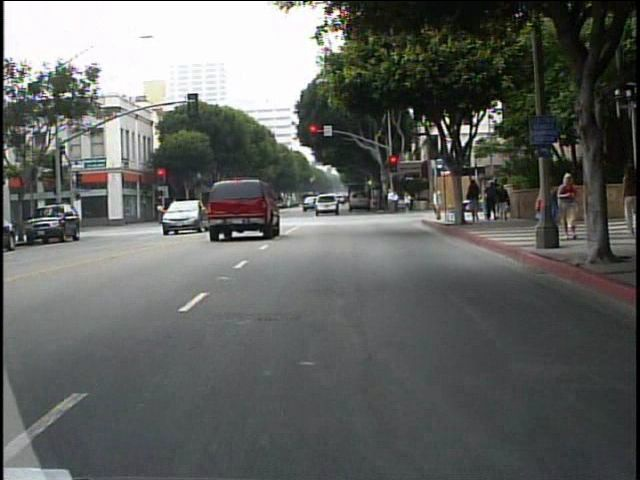person: (615, 158, 638, 239), (554, 170, 580, 238), (594, 169, 609, 240), (467, 177, 483, 224), (430, 187, 445, 220), (156, 198, 168, 226)
